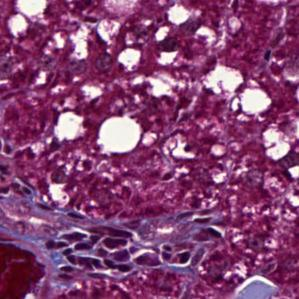inflammation: (58, 221, 135, 276), (157, 242, 192, 267)
